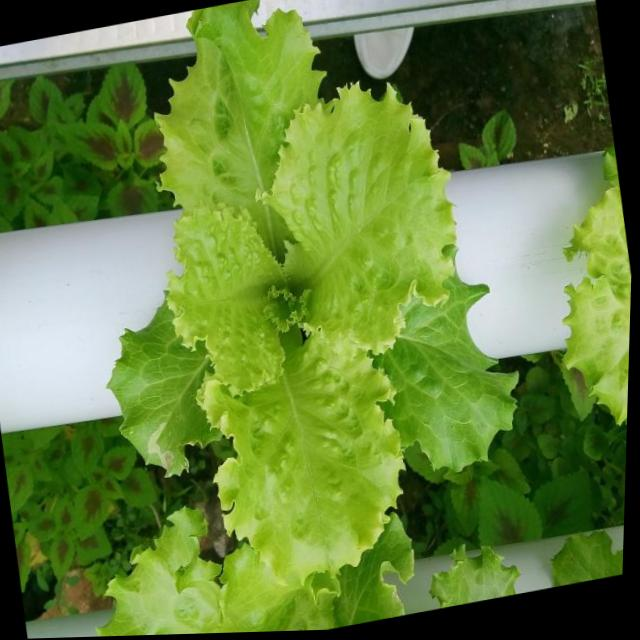Baby: (108, 0, 517, 584)
